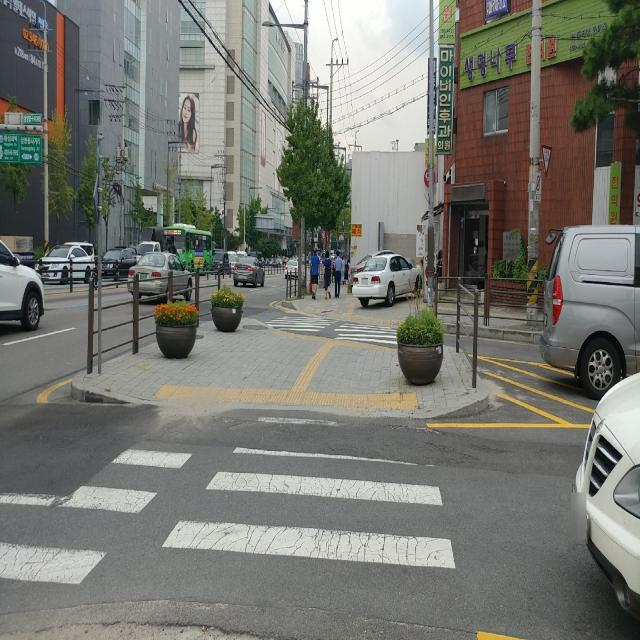횡단보도: (0, 413, 457, 590), (346, 323, 392, 344), (280, 317, 322, 332)
